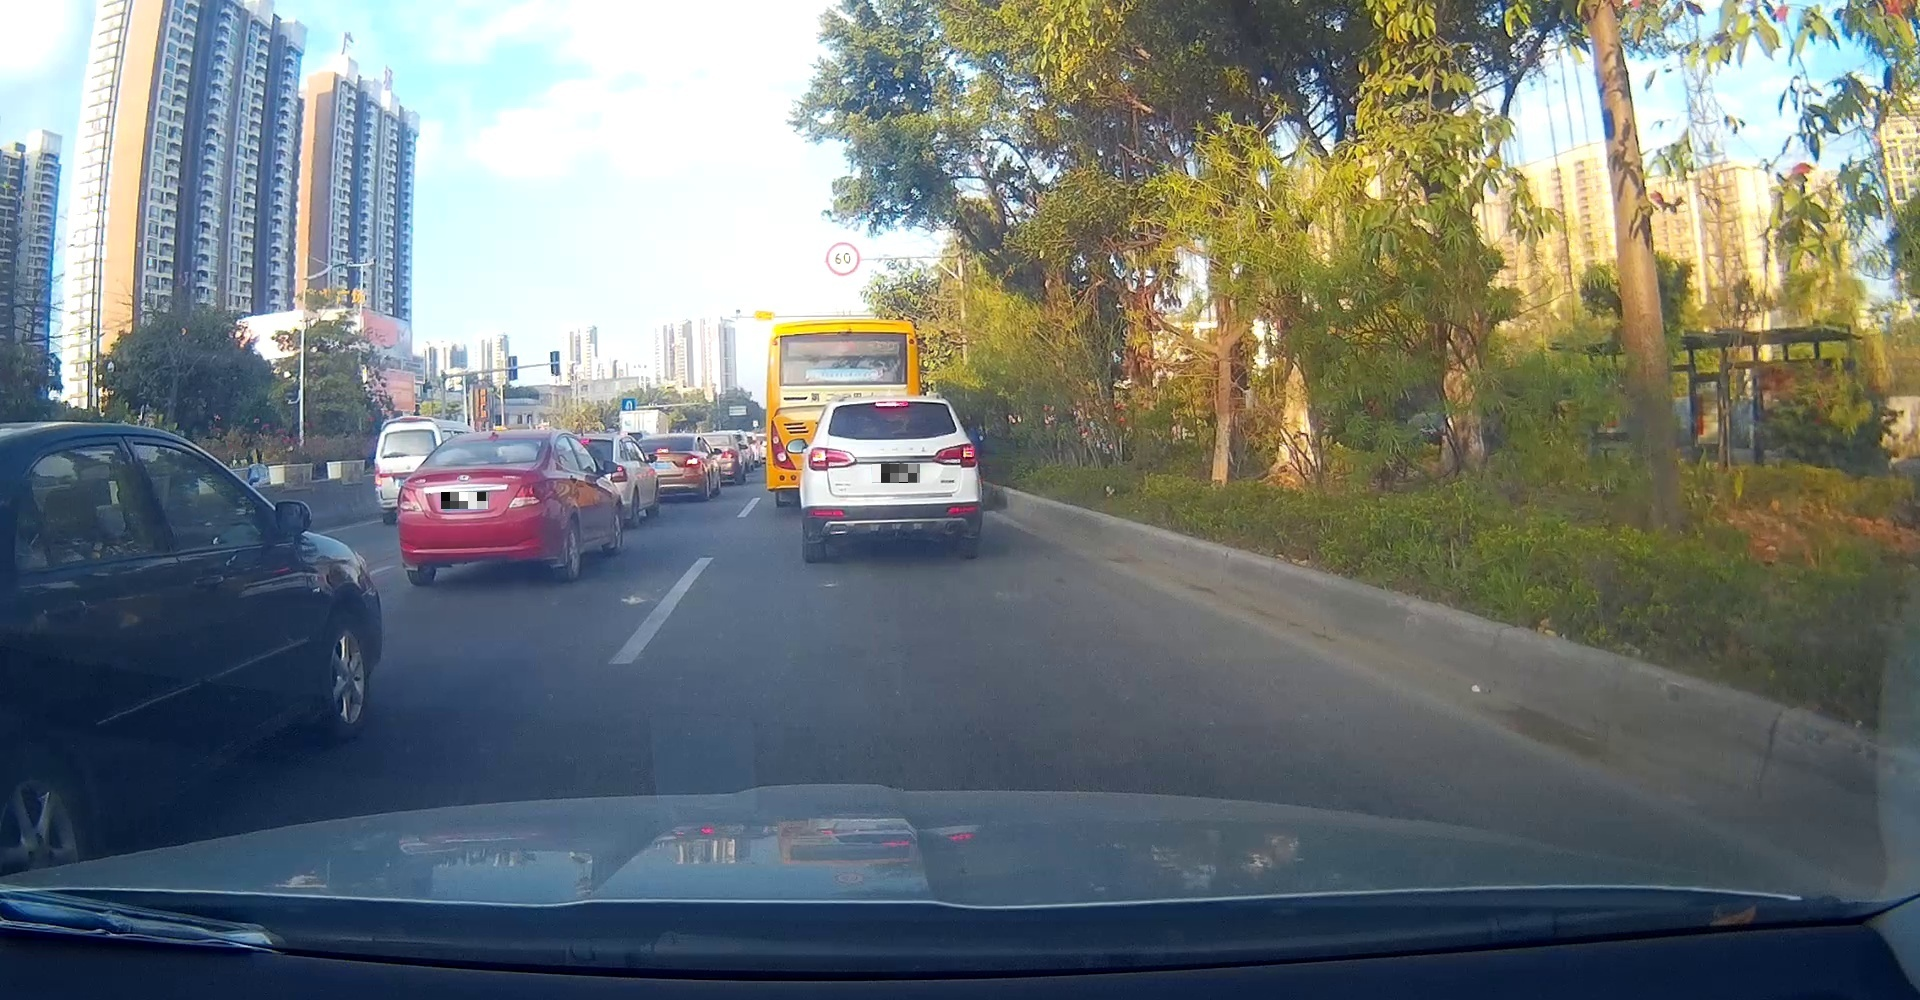L_light: (808, 447, 857, 472), (397, 485, 423, 511)
R_light: (933, 442, 977, 468), (509, 480, 546, 508)
T_light: (875, 401, 908, 406), (467, 459, 490, 464)
day-brake: (803, 396, 983, 563)
day-no: (396, 430, 551, 586)
plate_1: (441, 492, 488, 509)
plate_2: (872, 464, 919, 484)
